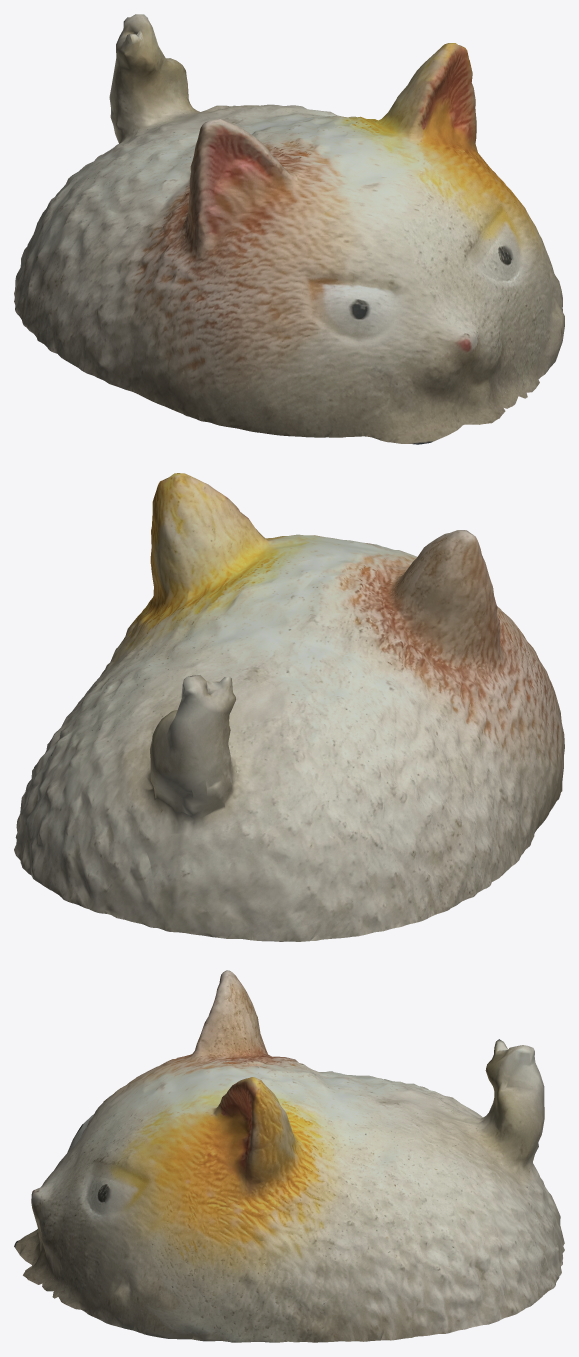
Rendered from 3DModel_LowPoly.glb.
3 views of the same model, one above another, from view 1: azimuth 30°, elevation 25°; view 2: azimuth 150°, elevation 25°; view 3: azimuth 270°, elevation 25° (orthographic). The views are drawn at different scales.
Visible parts, largest first — view 1: 3DModel_LowPoly; view 2: 3DModel_LowPoly; view 3: 3DModel_LowPoly.
Boxes of the visible parts, <box> form: 3DModel_LowPoly: <box>14,14,564,444</box>; 3DModel_LowPoly: <box>14,473,564,941</box>; 3DModel_LowPoly: <box>14,970,564,1342</box>.
Bounding box in the file's own units: 1.36 × 0.8279 × 1.76.
Materials: 1 (1 with a texture image).
